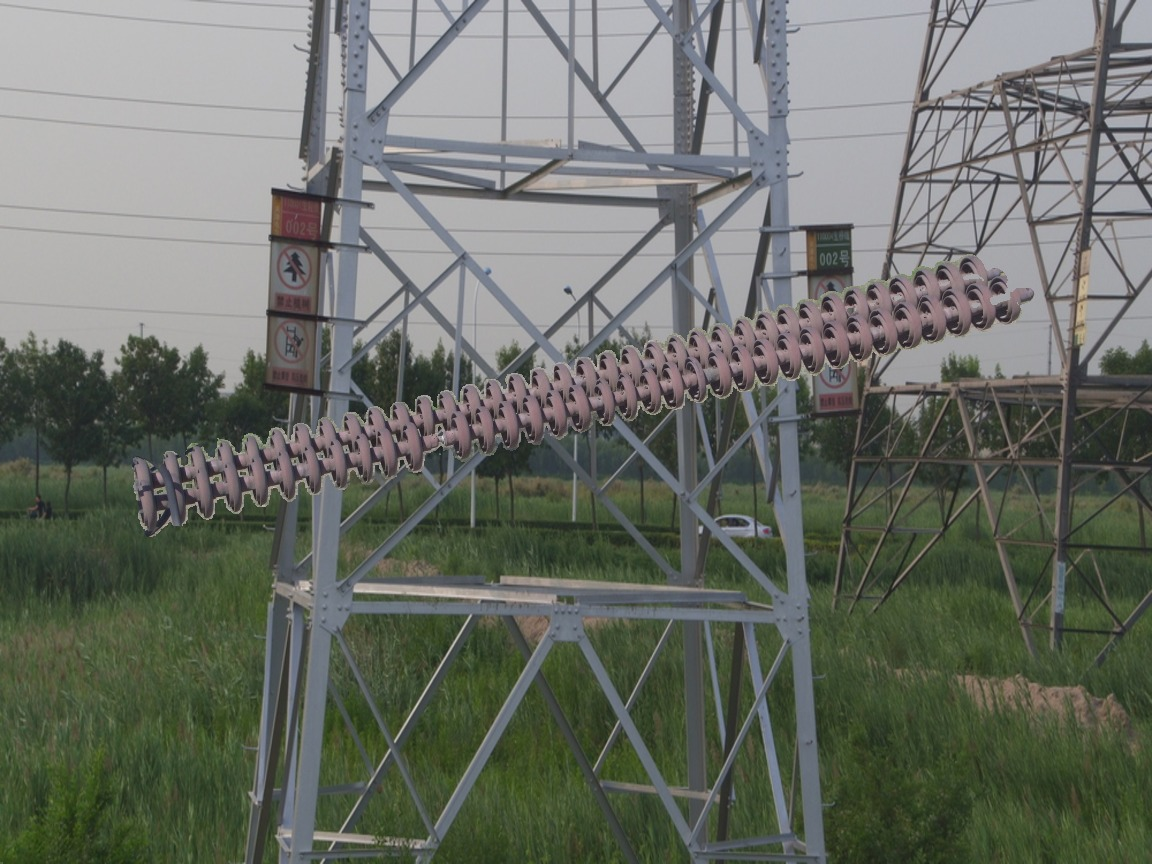defect: (398, 411, 477, 477)
